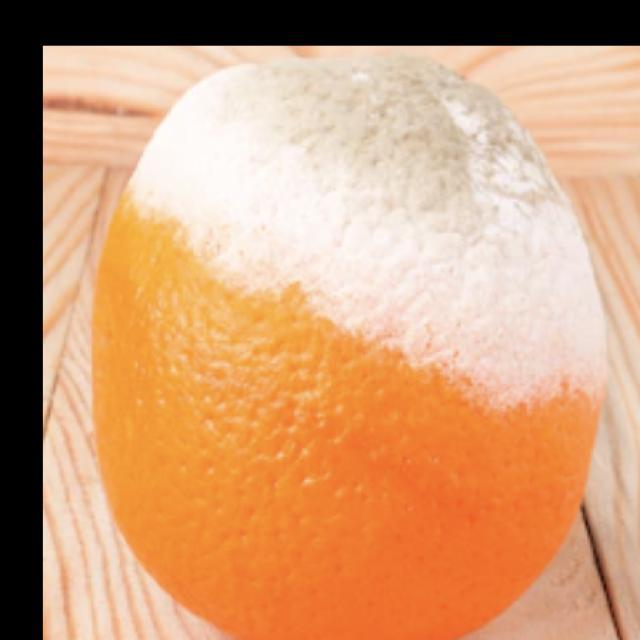sedikit-busuk: (94, 57, 606, 639)
